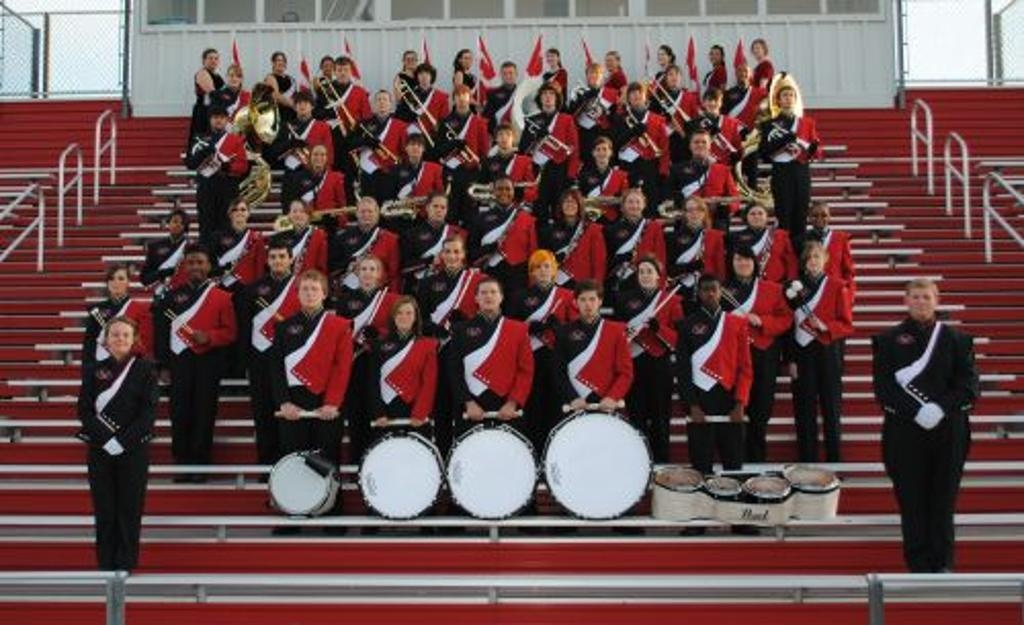human_face: (908, 284, 934, 318), (108, 322, 132, 354), (730, 248, 754, 278), (184, 252, 208, 280), (576, 288, 600, 316), (393, 301, 415, 331), (298, 278, 320, 306), (268, 246, 290, 274), (478, 282, 500, 310), (700, 280, 720, 306), (638, 261, 656, 289), (624, 192, 644, 216), (107, 268, 127, 292), (494, 178, 512, 204), (429, 196, 447, 222), (746, 205, 766, 228), (356, 202, 376, 224), (690, 133, 708, 157), (810, 206, 828, 230), (442, 242, 460, 266), (359, 259, 377, 283), (534, 256, 550, 282), (560, 193, 578, 216), (289, 202, 307, 224), (230, 200, 248, 222), (686, 200, 704, 222), (168, 212, 186, 234), (804, 246, 820, 270), (628, 84, 644, 106), (406, 137, 422, 157), (310, 146, 326, 166), (594, 142, 610, 162), (334, 62, 350, 80), (295, 96, 311, 114), (210, 110, 226, 128), (496, 128, 512, 146), (501, 64, 515, 84), (666, 66, 680, 86), (704, 92, 718, 112), (780, 88, 794, 107), (376, 93, 390, 111), (273, 54, 287, 72), (204, 50, 218, 68), (227, 68, 241, 86), (541, 88, 555, 106), (588, 66, 602, 84), (455, 89, 469, 107), (460, 50, 474, 68), (320, 59, 334, 75), (294, 146, 308, 162), (404, 52, 416, 70), (709, 46, 721, 64), (656, 47, 668, 65), (752, 39, 764, 56), (737, 64, 749, 81), (417, 70, 431, 84), (604, 54, 616, 70), (546, 51, 556, 64)
